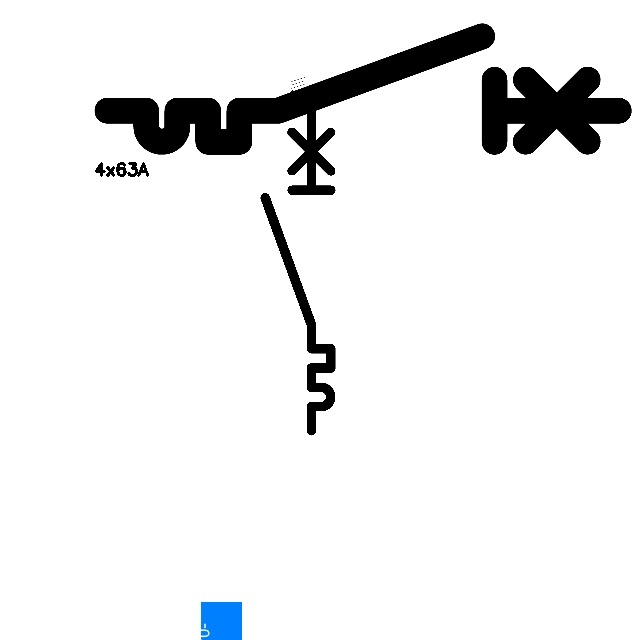interruptor_termomagnetico: (94, 23, 631, 155), (257, 104, 339, 438)
